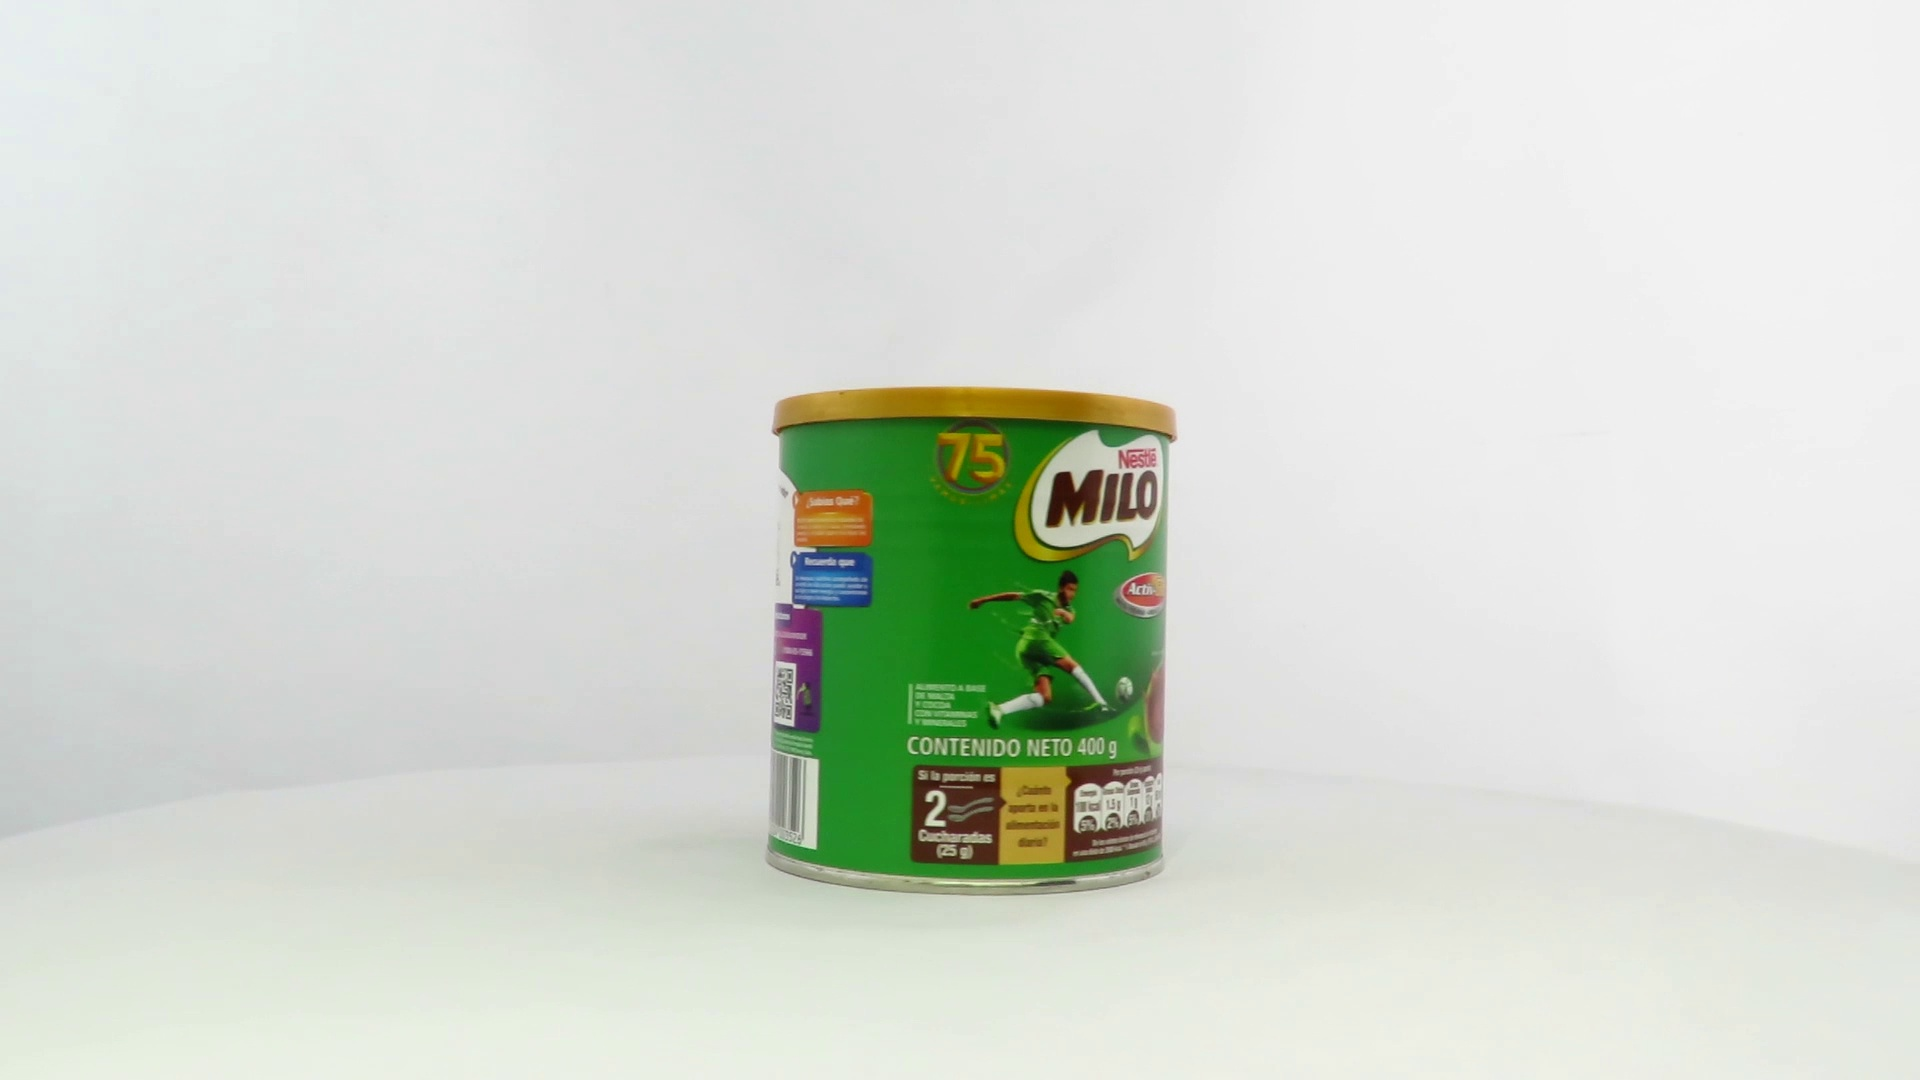COL0170203LAT40000: (760, 381, 1184, 902)
